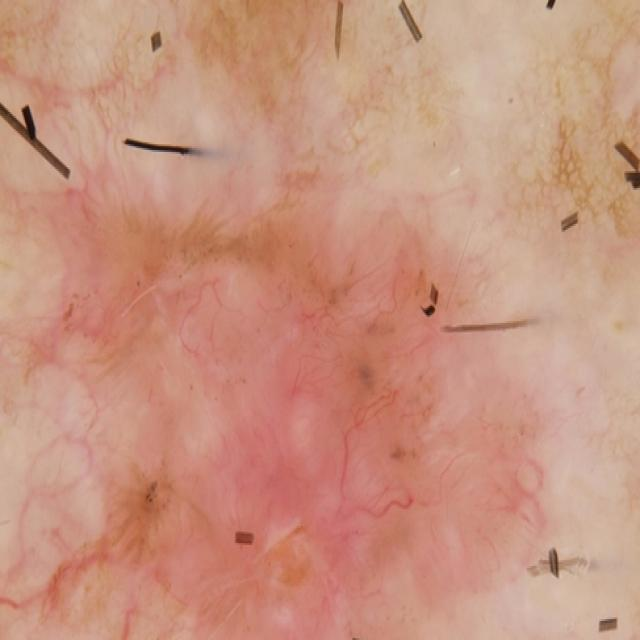Carcinoma: (66, 190, 591, 640)
